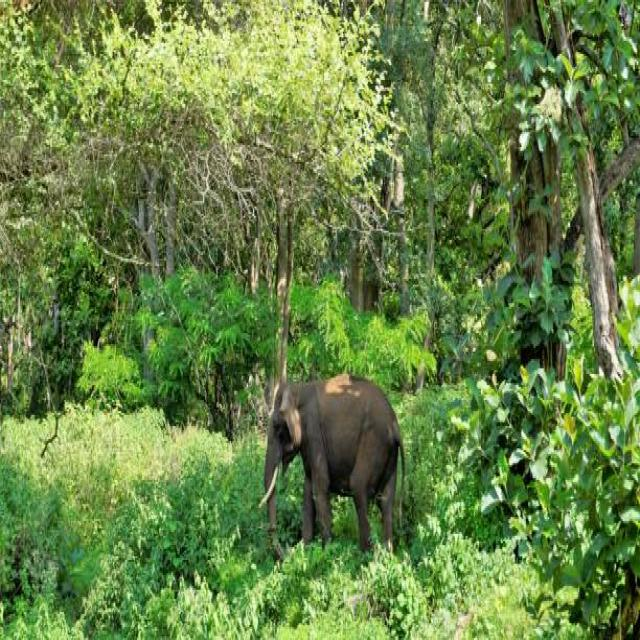Elephant: (258, 363, 432, 558)
